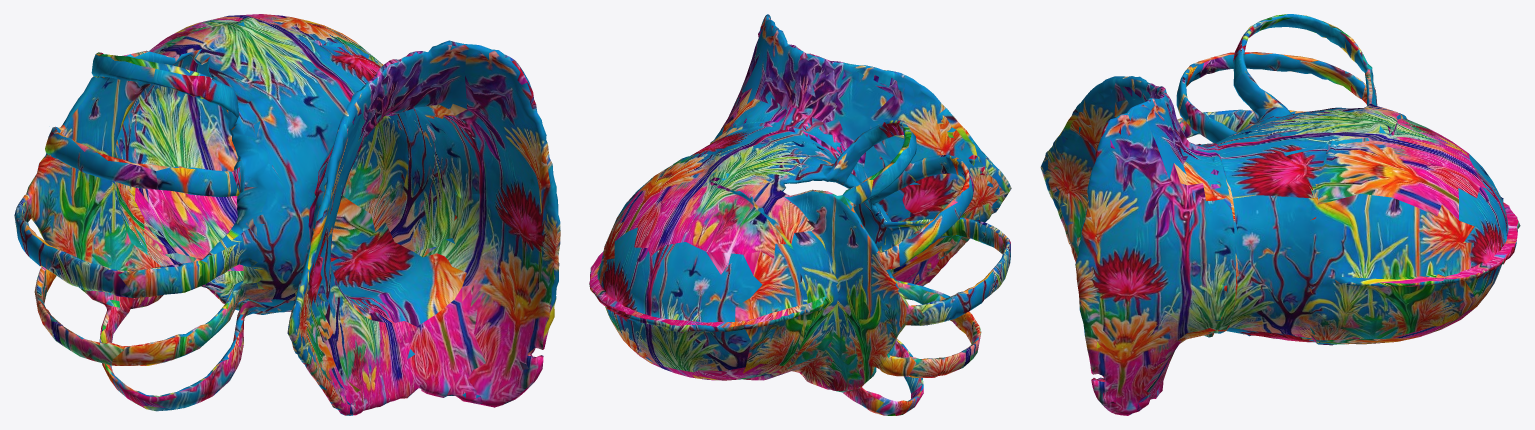
File: tds_helmet.glb
3 views of the same model, side by side, from view 1: azimuth 30°, elevation 25°; view 2: azimuth 150°, elevation 25°; view 3: azimuth 270°, elevation 25° (orthographic). The views are drawn at different scales.
Parts seen in each view (by area): view 1: A; view 2: A; view 3: A.
Boxes of the visible parts, <box> form: A: <box>14,14,560,415</box>; A: <box>589,14,1011,415</box>; A: <box>1040,14,1520,415</box>.
Size of the model in its own units: 1.65 by 1.41 by 2.
1 material, 1 textured.
